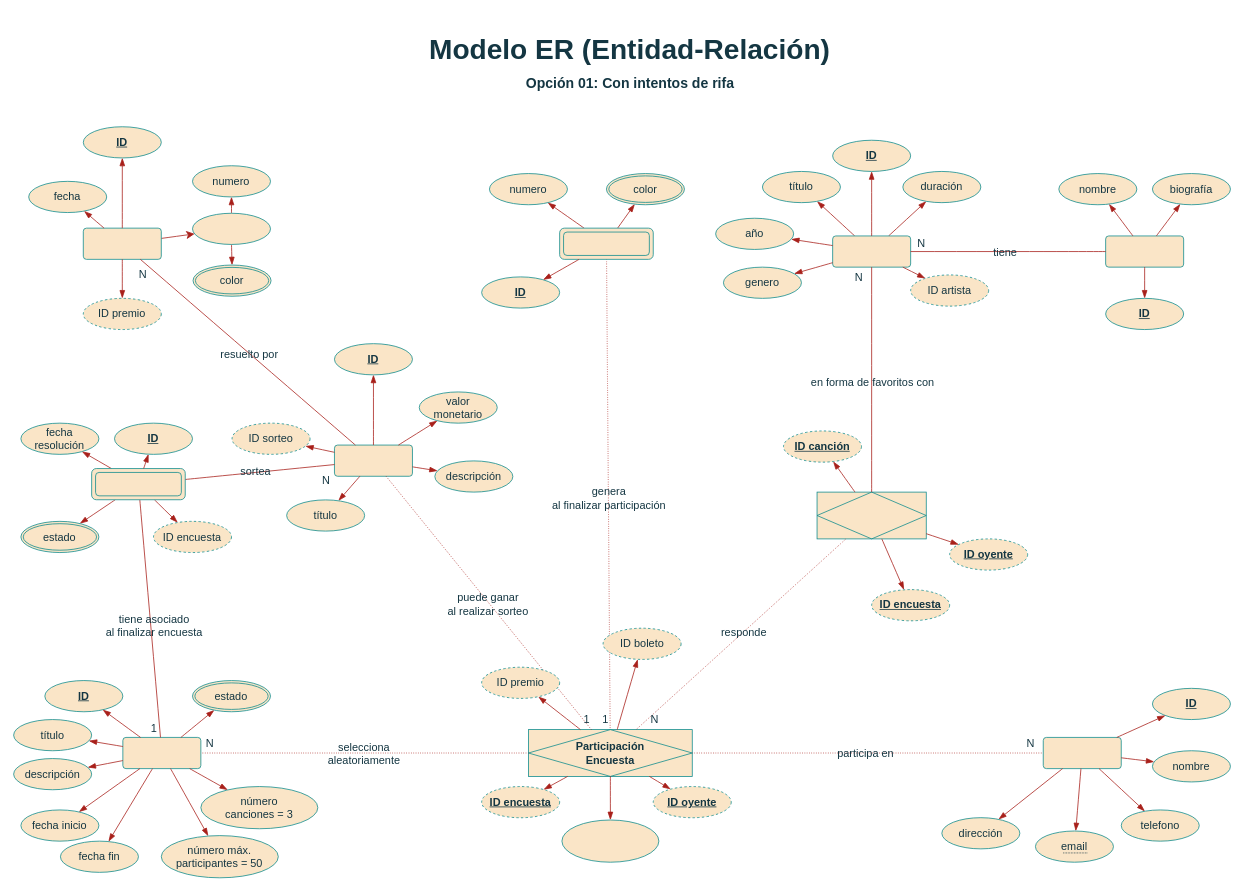
Some shapes in this 1244 by 892 pixel diagram are drawn without their labels. The shapes that lost their labels are listed below. From the top down, each one's box as (x1, y1, x2, y2) in pixels, then its label:
(83, 227, 161, 259): Tirada Sorteo
(192, 212, 271, 244): boleto
(559, 227, 653, 259): Boleto Sorteo
(832, 235, 911, 267): Canción
(1105, 235, 1184, 267): Artista
(334, 444, 412, 476): Premio
(91, 468, 185, 500): Sorteo
(816, 491, 926, 539): Respuesta Encuesta
(122, 737, 201, 769): Encuesta
(1042, 737, 1121, 769): Oyente
(561, 819, 659, 862): fecha participación
